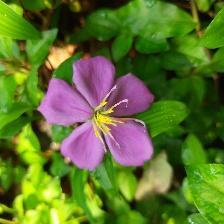malabar melastome: (37, 55, 158, 174)
